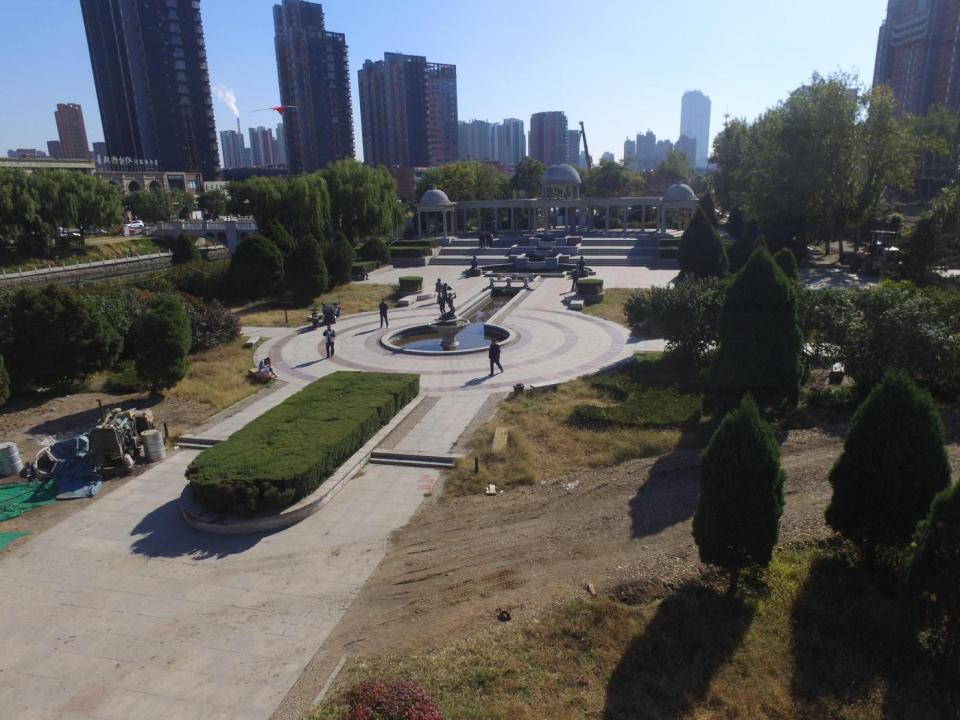car: (122, 219, 145, 230), (115, 225, 136, 237), (86, 227, 108, 238), (202, 211, 223, 222), (220, 217, 237, 228), (57, 231, 82, 238), (48, 226, 64, 234)
